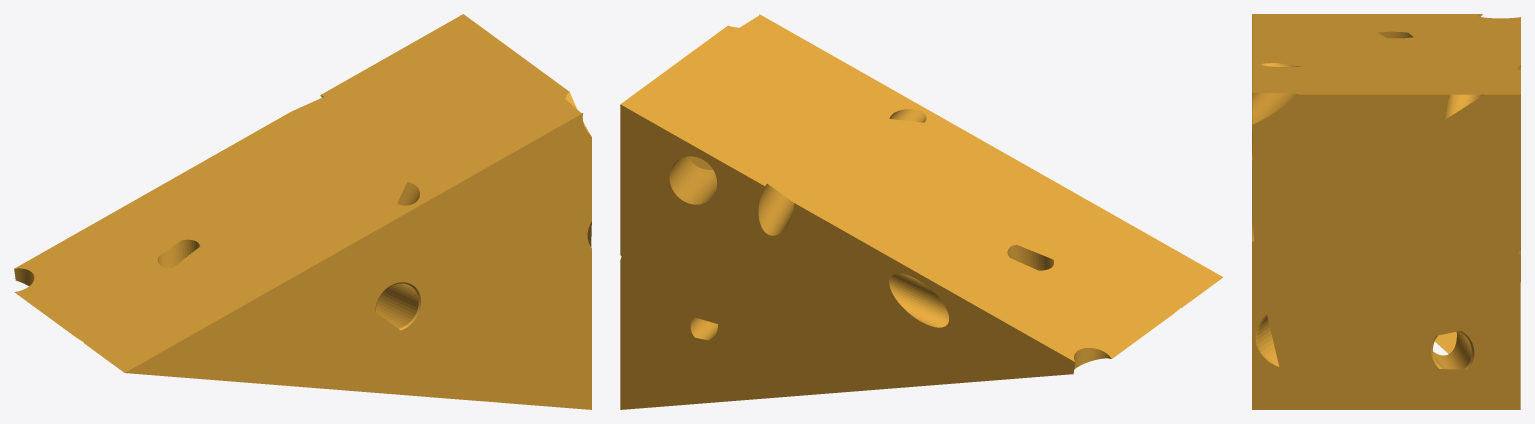
The model's file is Käse.fbx.
3 views of the same model, side by side, from view 1: azimuth 30°, elevation 25°; view 2: azimuth 150°, elevation 25°; view 3: azimuth 270°, elevation 25° (orthographic). The views are drawn at different scales.
Parts seen in each view (by area): view 1: Cube; view 2: Cube; view 3: Cube.
Boxes of the visible parts, bbox=[...] form: Cube: bbox=[14, 14, 591, 409]; Cube: bbox=[620, 14, 1223, 409]; Cube: bbox=[1252, 14, 1520, 409].
Size of the model in its own units: 494 by 305 by 236.
